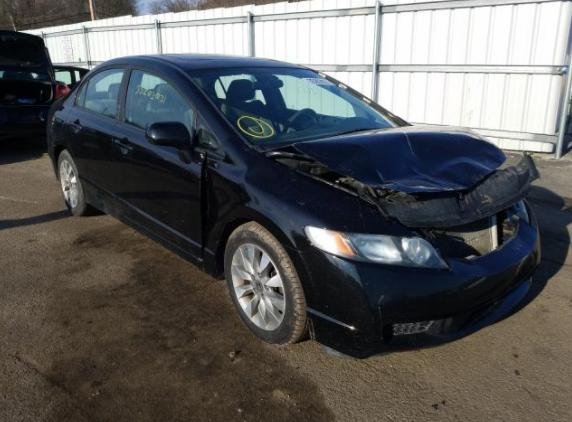Back-bumper: (47, 122, 66, 177)
Back-door: (69, 64, 130, 212)
Back-wheel: (57, 149, 104, 217)
Back-window: (76, 69, 126, 120)
Fender: (203, 129, 421, 269)
Front-bumper: (282, 196, 541, 360)
Front-door: (110, 65, 207, 259)
Front-wheel: (224, 220, 311, 347)
Front-window: (125, 68, 194, 145), (196, 114, 227, 158)
Headlight: (304, 225, 449, 269), (513, 199, 529, 224)
Hood: (291, 123, 507, 192)
Mirror: (145, 121, 196, 156)
Quarter-panel: (49, 99, 80, 172)
Rocker-panel: (85, 192, 226, 281)
Roof: (127, 53, 309, 71)
Tail-light: (47, 110, 56, 127)
Windshield: (185, 66, 402, 151)
